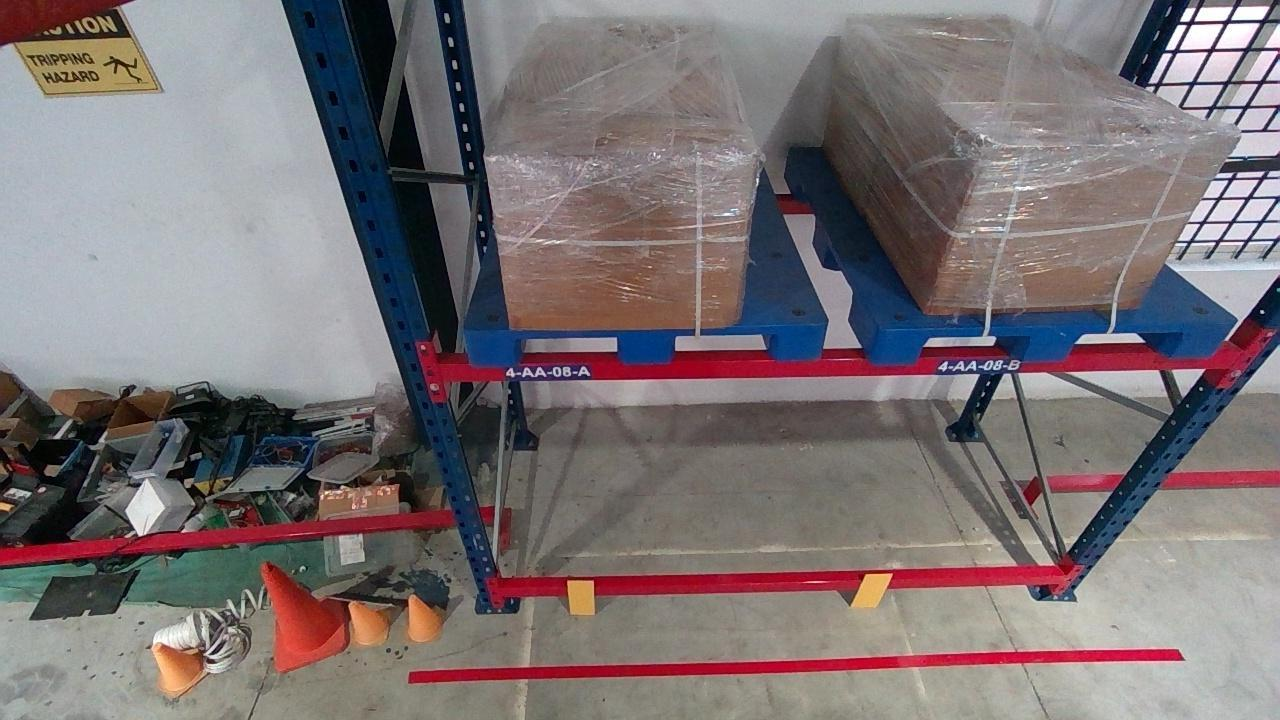h_rack: (443, 349, 1246, 379), (496, 572, 1069, 597)
orange_strip: (850, 573, 892, 608), (567, 581, 595, 615)
red_line: (406, 647, 1180, 683)
small_pallet: (461, 324, 824, 361), (875, 322, 1232, 358)
